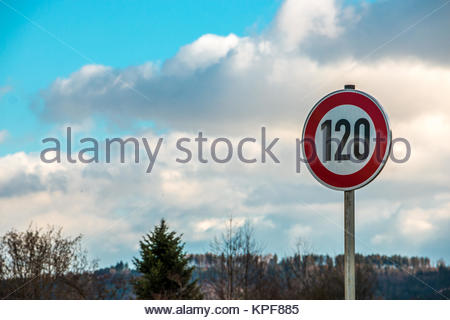Speed_limit_120km: (302, 89, 392, 191)
